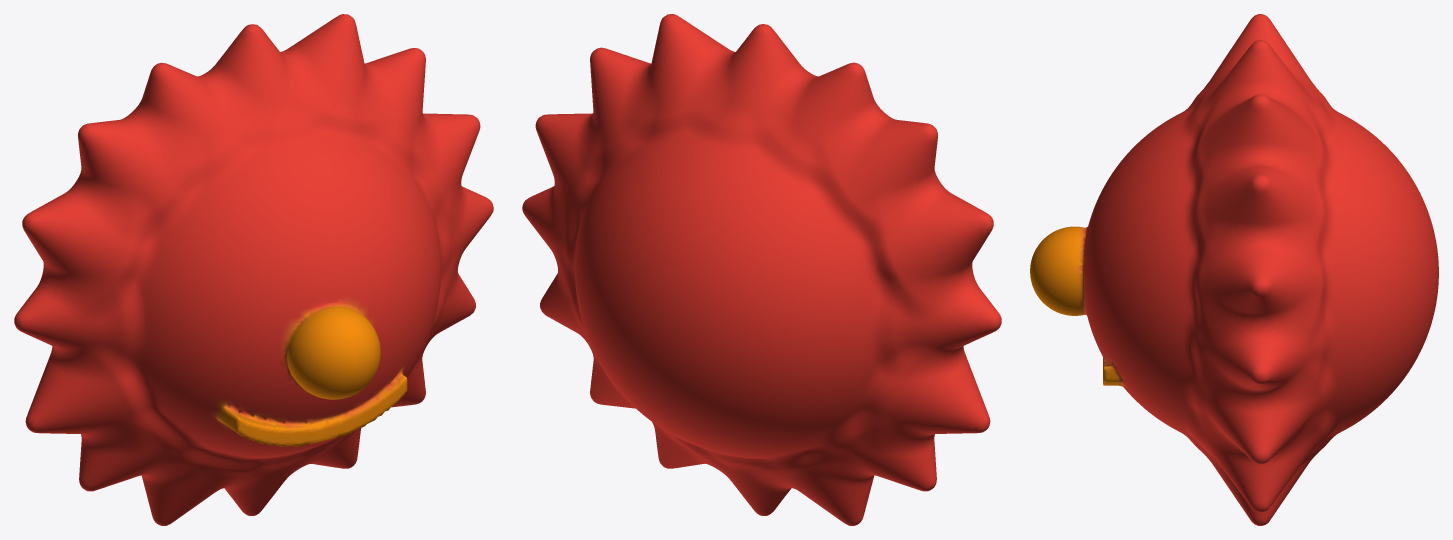
File: avatar.gltf
3 renders of one model, left to right at view 1: azimuth 30°, elevation 25°; view 2: azimuth 150°, elevation 25°; view 3: azimuth 270°, elevation 25°, orthographic. The views are drawn at different scales.
Parts seen in each view (by area): view 1: Area (4); view 2: Area (4); view 3: Area (4).
Part boxes in pixels (x1,y1,x2,y2): Area (4): [14, 14, 493, 525]; Area (4): [522, 14, 1001, 525]; Area (4): [1030, 14, 1438, 525].
Size of the model in its own units: 146 by 143 by 115.
Materials: 1 (1 with a texture image).
